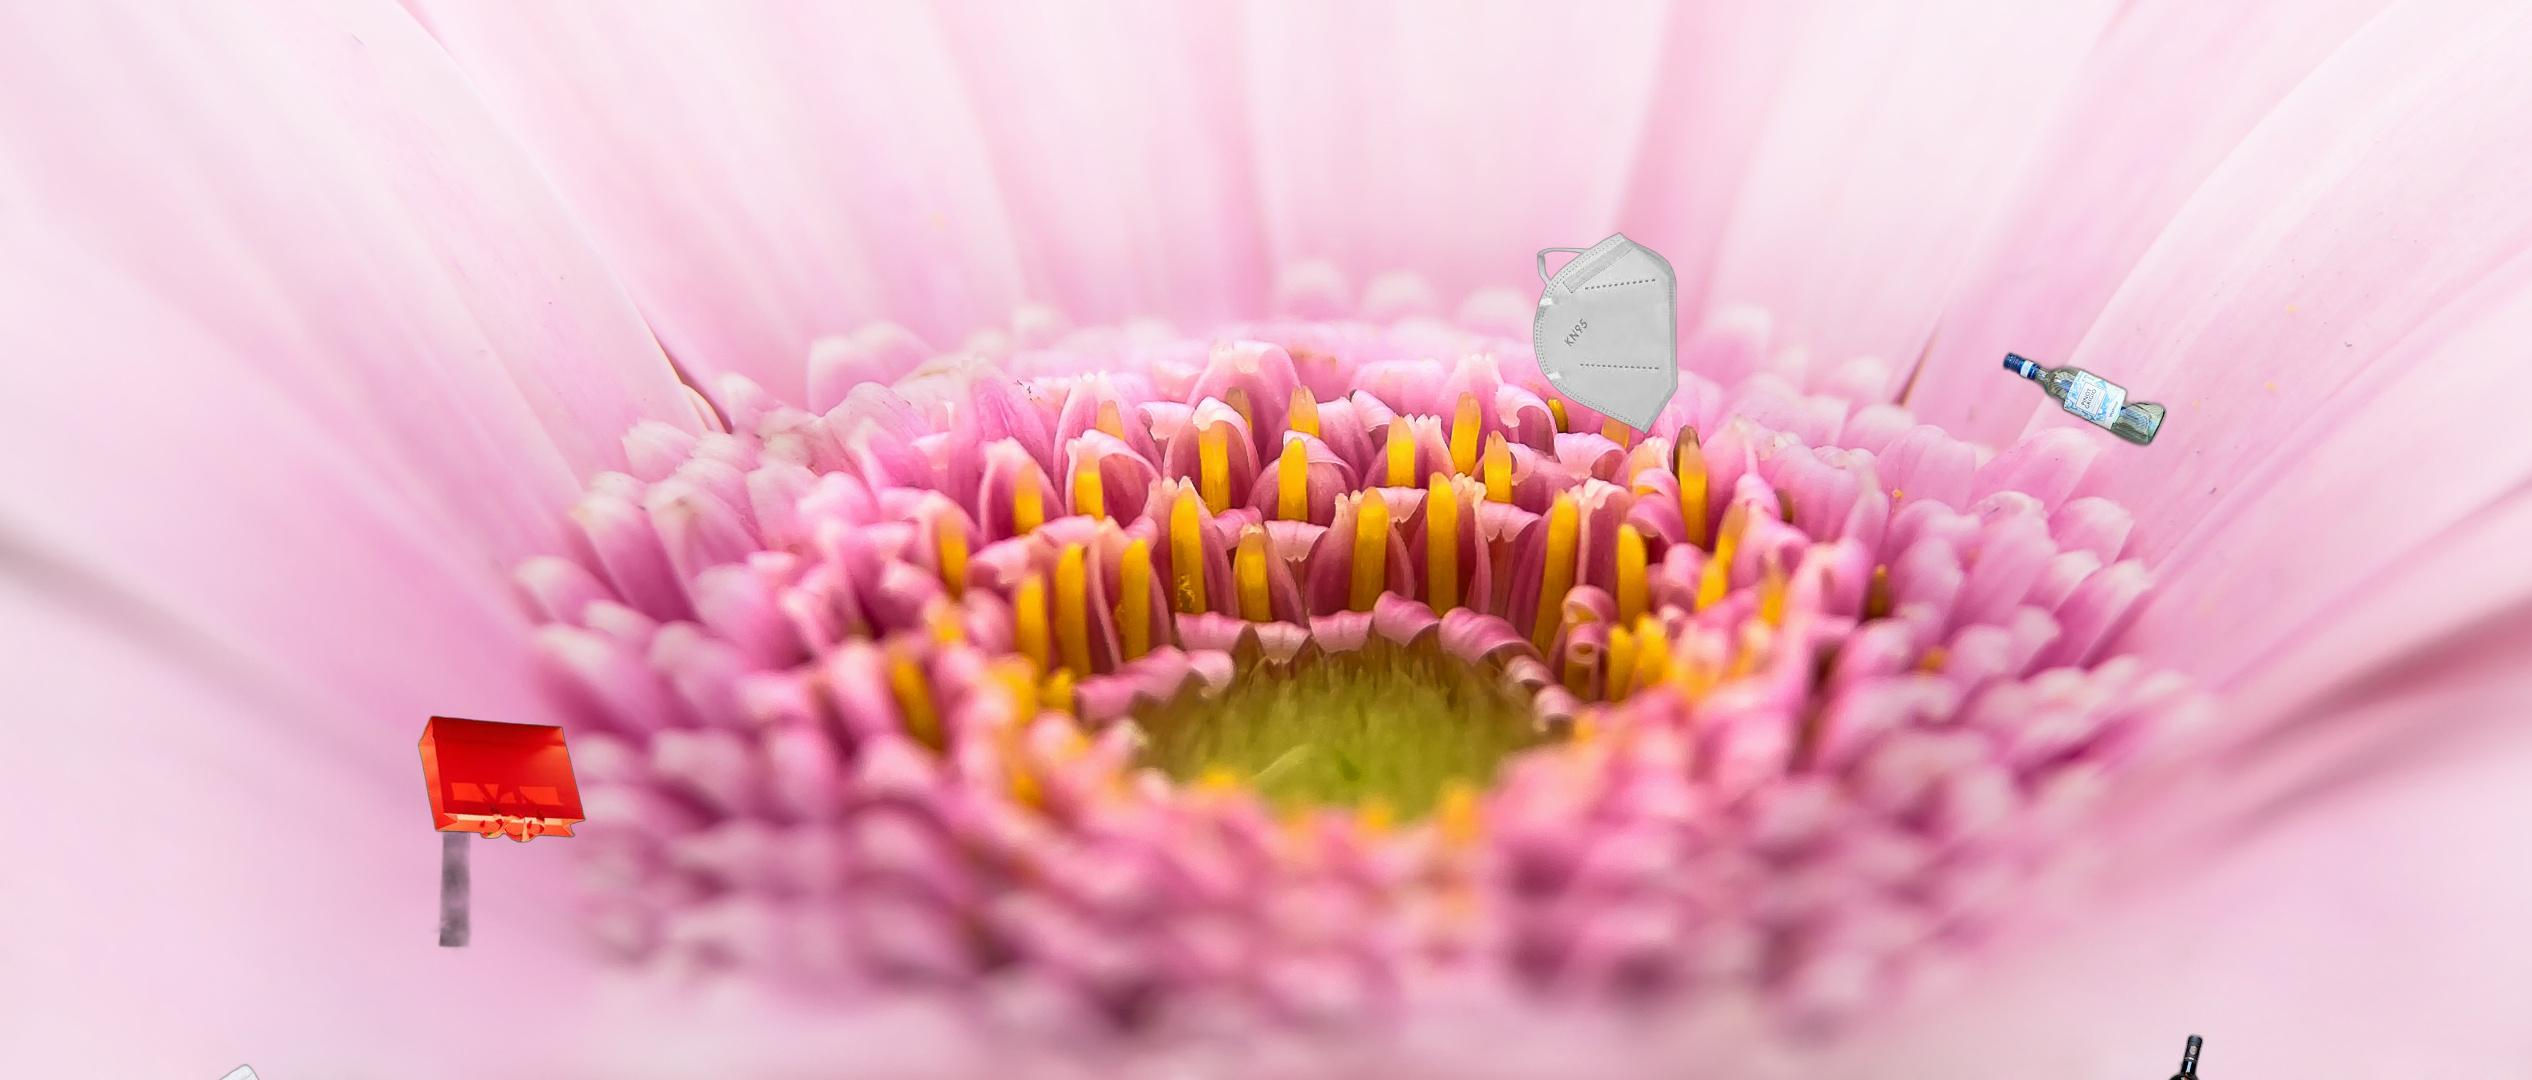glass: (1935, 823, 2207, 1080), (1998, 345, 2170, 454)
paper-bag: (412, 715, 588, 985)
trash: (1460, 231, 1679, 446), (92, 1062, 299, 1080)
